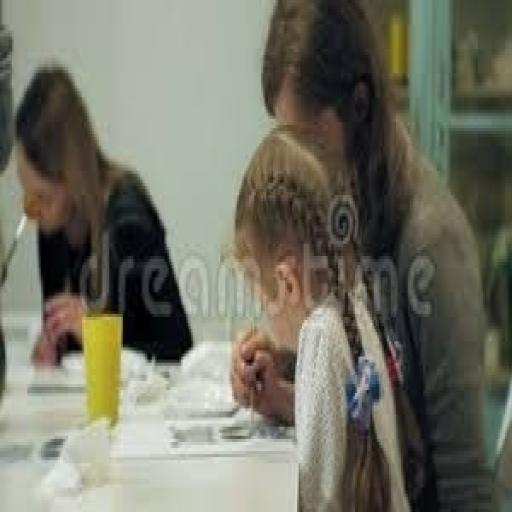sitting: (258, 0, 495, 509), (227, 122, 427, 509), (10, 61, 195, 372)
